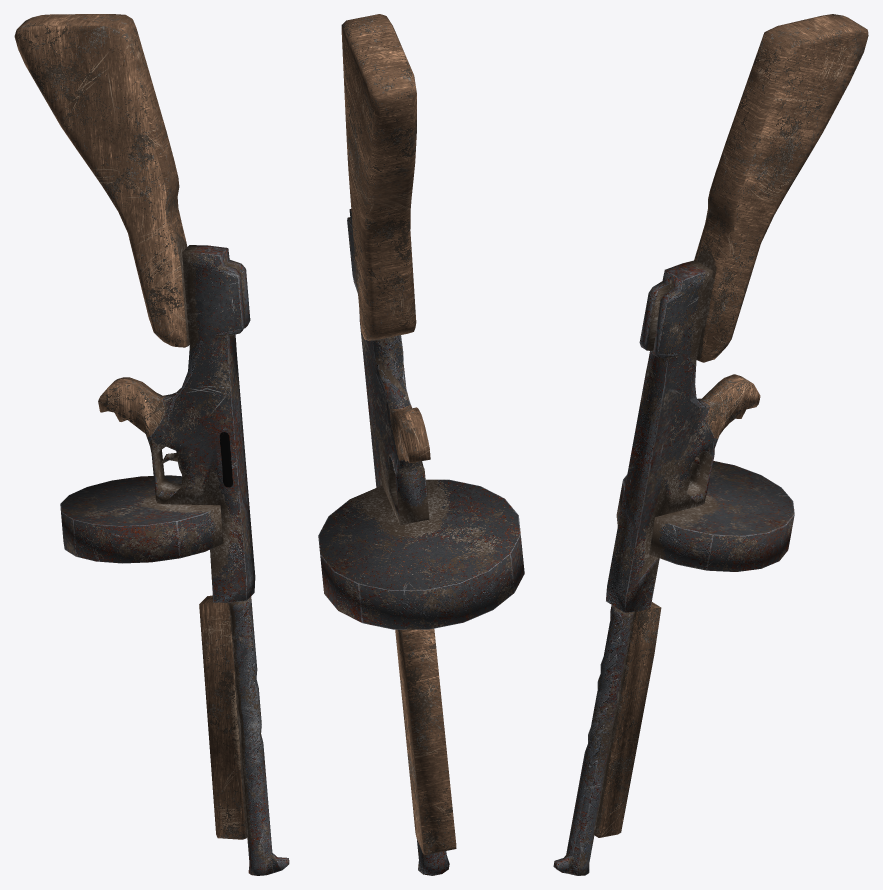
Rendered from Anim_idle_ametralladora_objetos.0052.obj.
3 views of the same model, side by side, from view 1: azimuth 30°, elevation 25°; view 2: azimuth 150°, elevation 25°; view 3: azimuth 270°, elevation 25° (orthographic). The views are drawn at different scales.
Parts seen in each view (by area): view 1: Ametralladora1; view 2: Ametralladora1; view 3: Ametralladora1.
Part boxes in pixels (x1,y1,x2,y2): Ametralladora1: (14,14,289,875); Ametralladora1: (318,14,524,875); Ametralladora1: (553,14,868,875).
Size of the model in its own units: 1.2 by 5.89 by 2.06.
